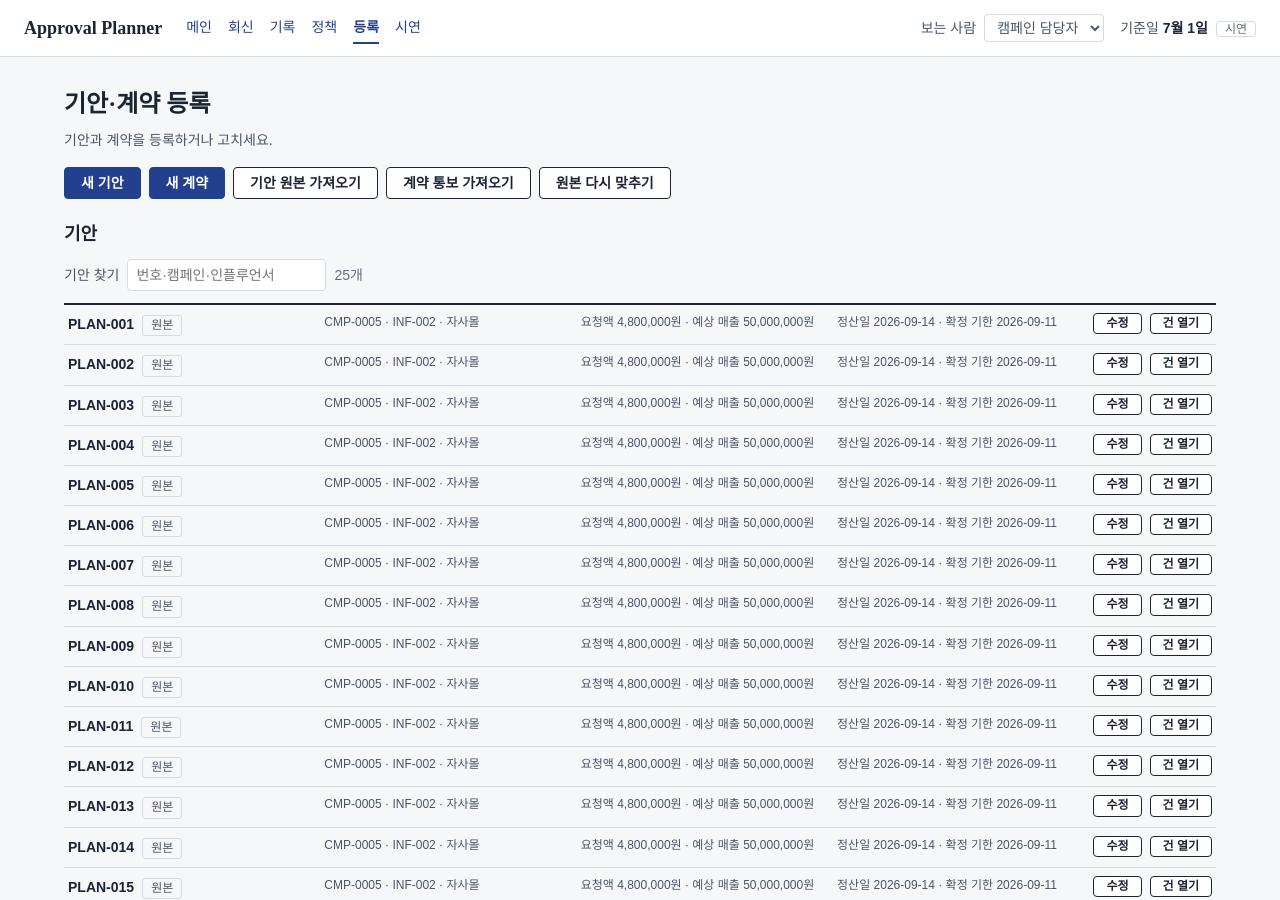
Scenario: 기안·계약 등록 › 기안이_많으면_찾기_칸으로_거를_수_있다
This screenshot has width=1280, height=900.
Type "PLAN-007" into the search field labelled "기안 찾기".
click(227, 275); type("PLAN-007")  # box [127,259,326,291]
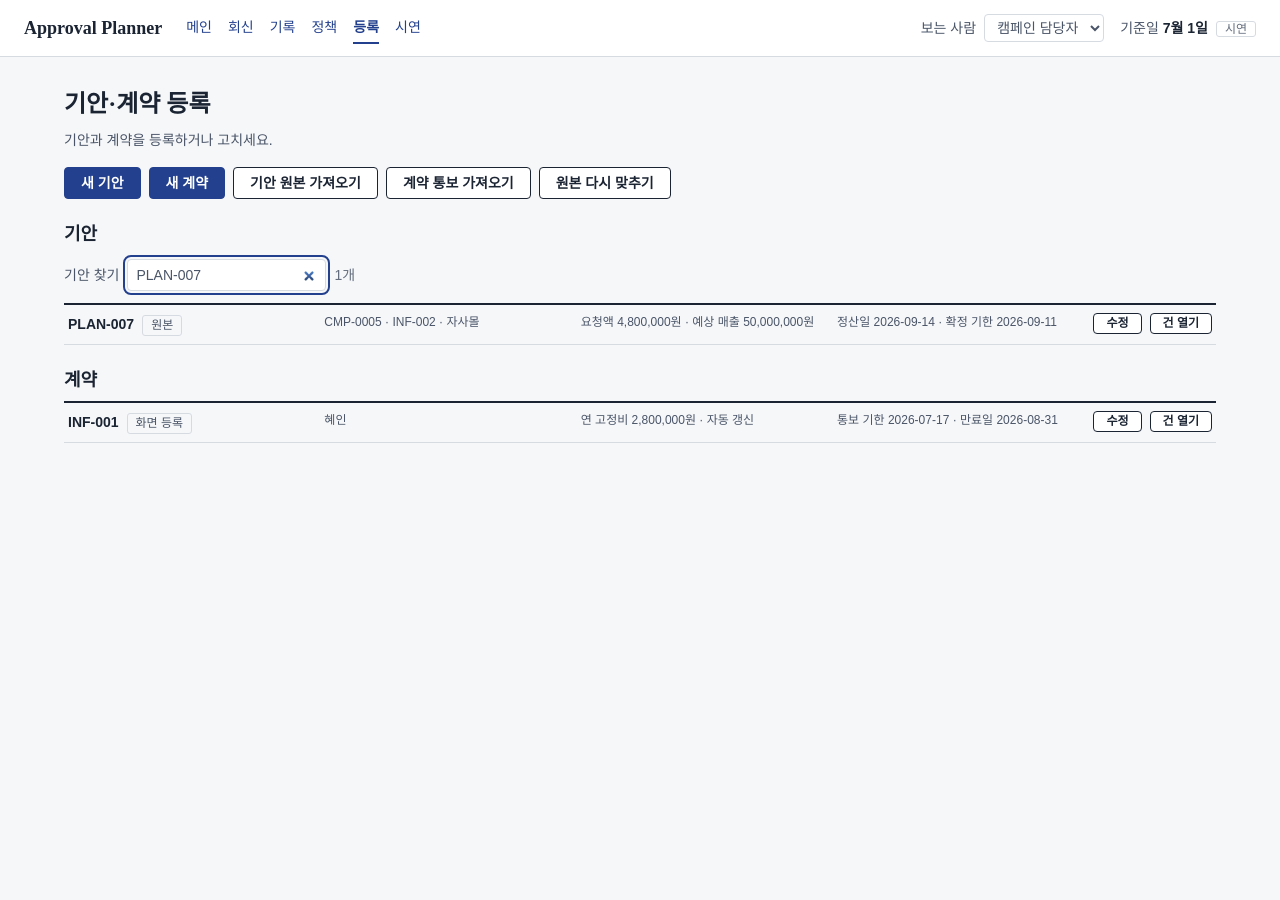
Replace the text in the search field labelled "기안 찾기" with "없는기안" at (227, 275), box [127,259,326,291]
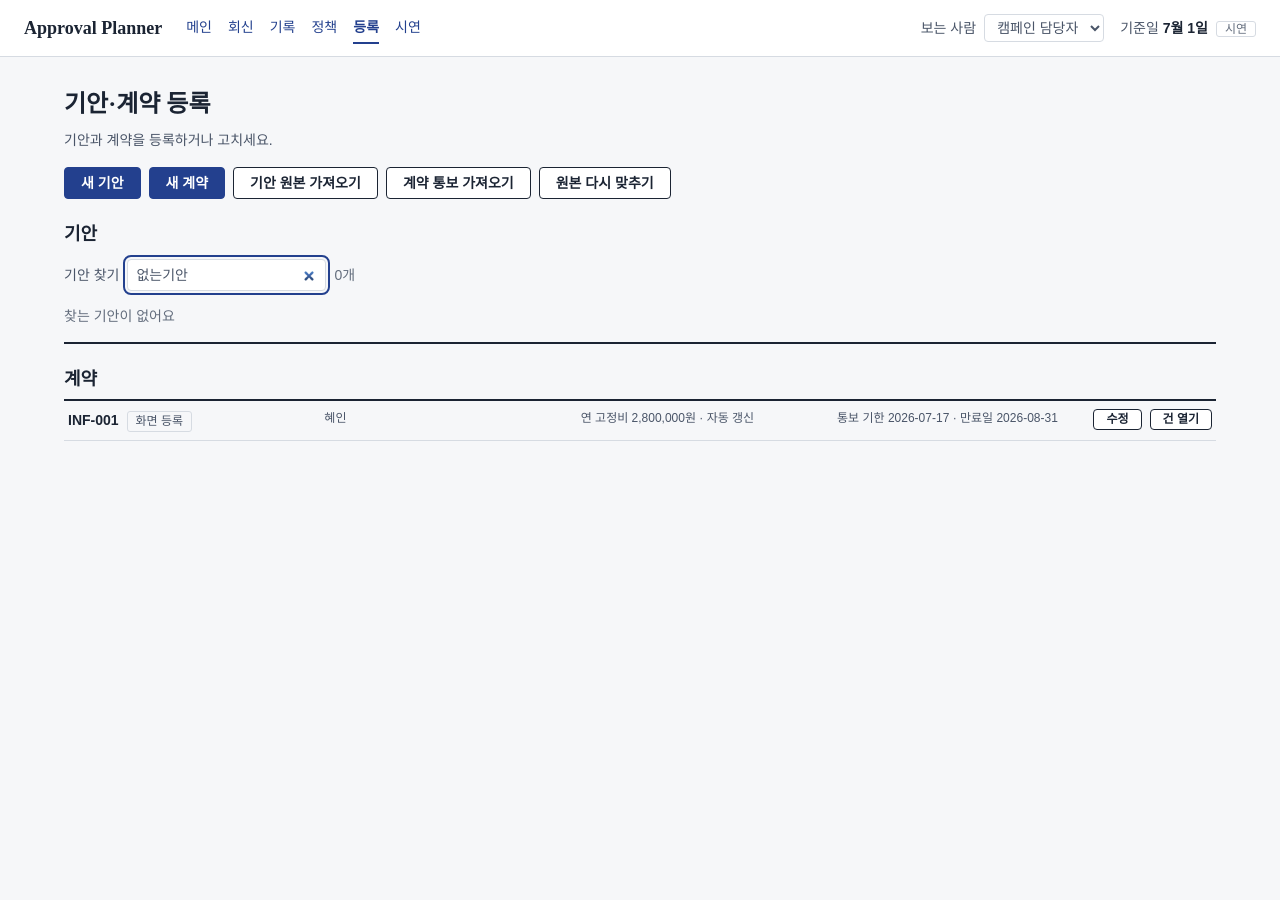
expect the text "찾는 기안이 없어요" is shown: met, box [64,308,175,324]
